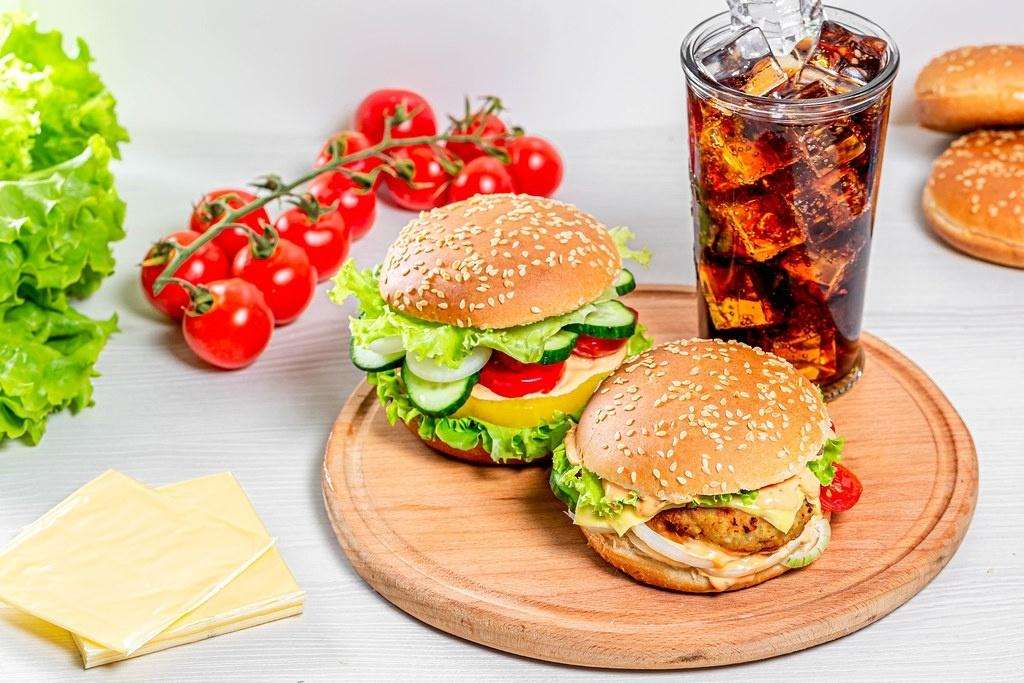cheese: (18, 491, 293, 635)
cherry: (200, 154, 348, 349)
